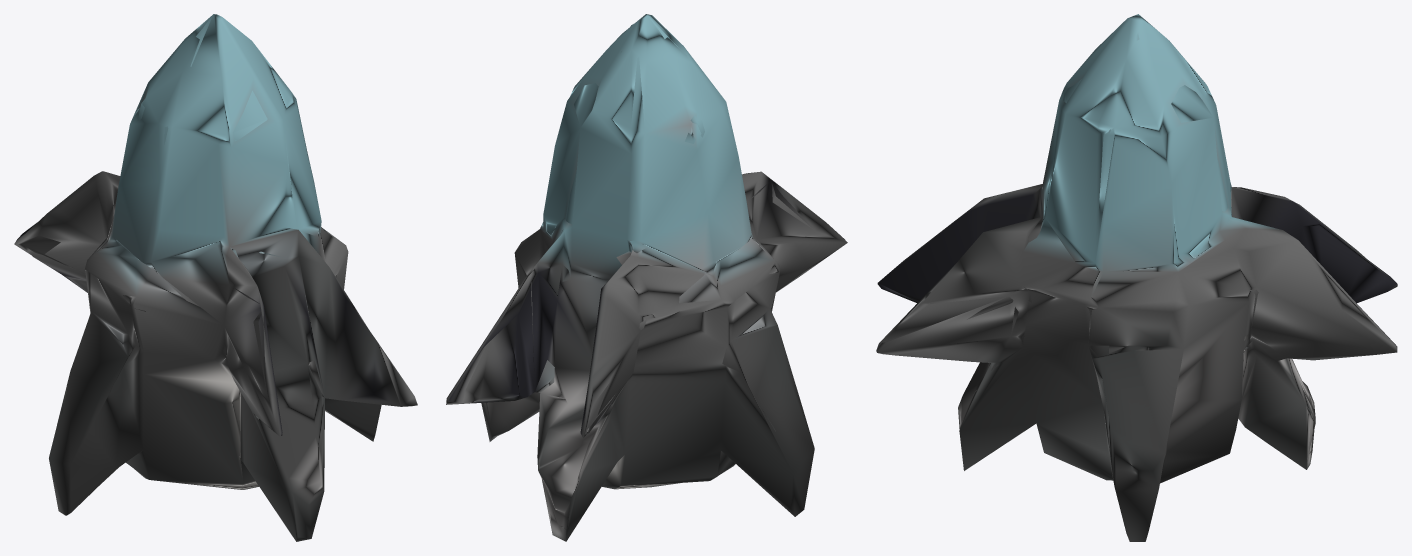
File: gen3d-launch-lod1.glb
The picture shows the model from 3 angles, left to right: view 1: azimuth 30°, elevation 25°; view 2: azimuth 150°, elevation 25°; view 3: azimuth 270°, elevation 25°; orthographic projection.
Visible parts, largest first — view 1: part_0; view 2: part_0; view 3: part_0.
Boxes of the visible parts, <box> form: part_0: <box>14,14,417,541</box>; part_0: <box>446,14,847,541</box>; part_0: <box>876,14,1397,541</box>.
Bounding box in the file's own units: 0.7073 × 0.9942 × 1.04.
